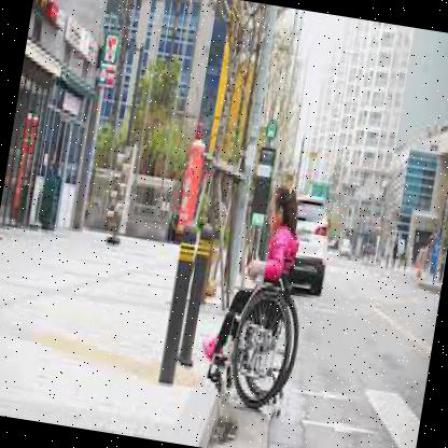wheel: (194, 181, 322, 417)
